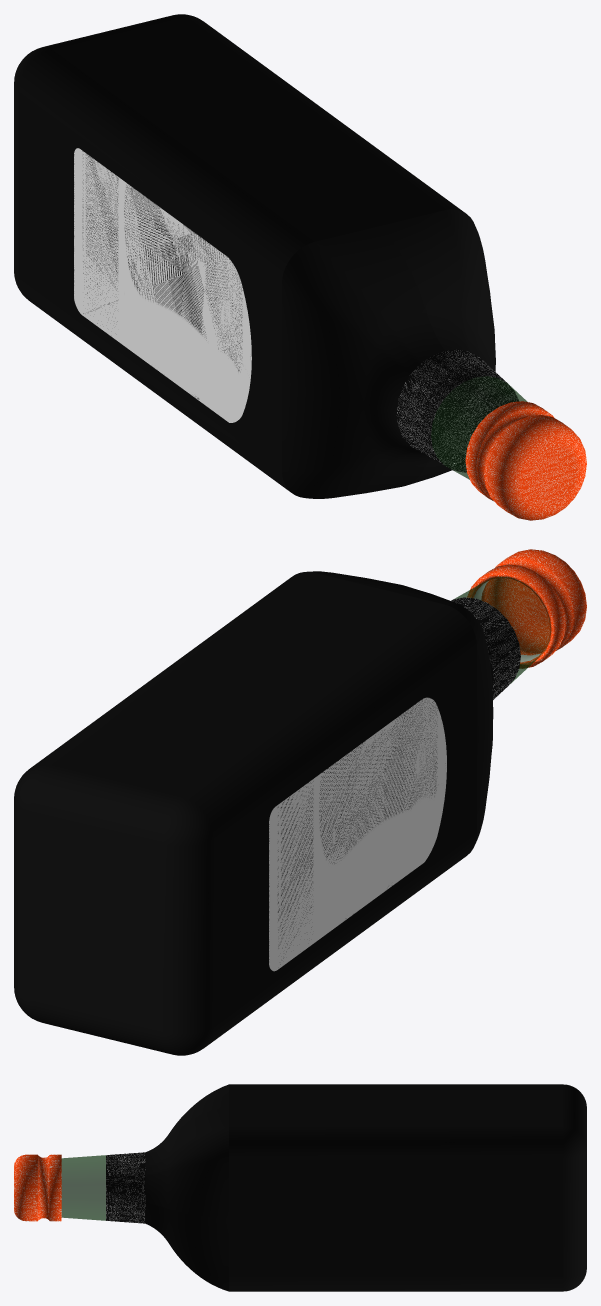
File: model_align.obj
3 renders of one model, top to bottom at view 1: azimuth 30°, elevation 25°; view 2: azimuth 150°, elevation 25°; view 3: azimuth 270°, elevation 25°, orthographic. The views are drawn at different scales.
Visible parts, largest first — view 1: mesh6_mesh6-geometry, mesh2_mesh2-geometry, mesh5_mesh5-geometry, mesh1_mesh1-geometry, mesh3_mesh3-geometry; view 2: mesh6_mesh6-geometry, mesh5_mesh5-geometry, mesh2_mesh2-geometry, mesh1_mesh1-geometry; view 3: mesh6_mesh6-geometry, mesh5_mesh5-geometry, mesh3_mesh3-geometry, mesh4_mesh4-geometry, mesh2_mesh2-geometry.
Part boxes in pixels (x1,y1,x2,y2): mesh6_mesh6-geometry: (14, 14, 464, 491); mesh2_mesh2-geometry: (282, 226, 444, 413); mesh5_mesh5-geometry: (396, 349, 586, 520); mesh1_mesh1-geometry: (282, 378, 430, 498); mesh3_mesh3-geometry: (380, 209, 495, 370); mesh6_mesh6-geometry: (14, 572, 476, 1055); mesh5_mesh5-geometry: (451, 549, 586, 699); mesh2_mesh2-geometry: (380, 584, 493, 739); mesh1_mesh1-geometry: (475, 680, 493, 843); mesh6_mesh6-geometry: (229, 1084, 586, 1291); mesh5_mesh5-geometry: (14, 1152, 145, 1223); mesh3_mesh3-geometry: (145, 1107, 228, 1218); mesh4_mesh4-geometry: (145, 1203, 228, 1291); mesh2_mesh2-geometry: (145, 1084, 228, 1155).
Bounding box in the file's own units: 0.0677 × 0.0846 × 0.2707.
